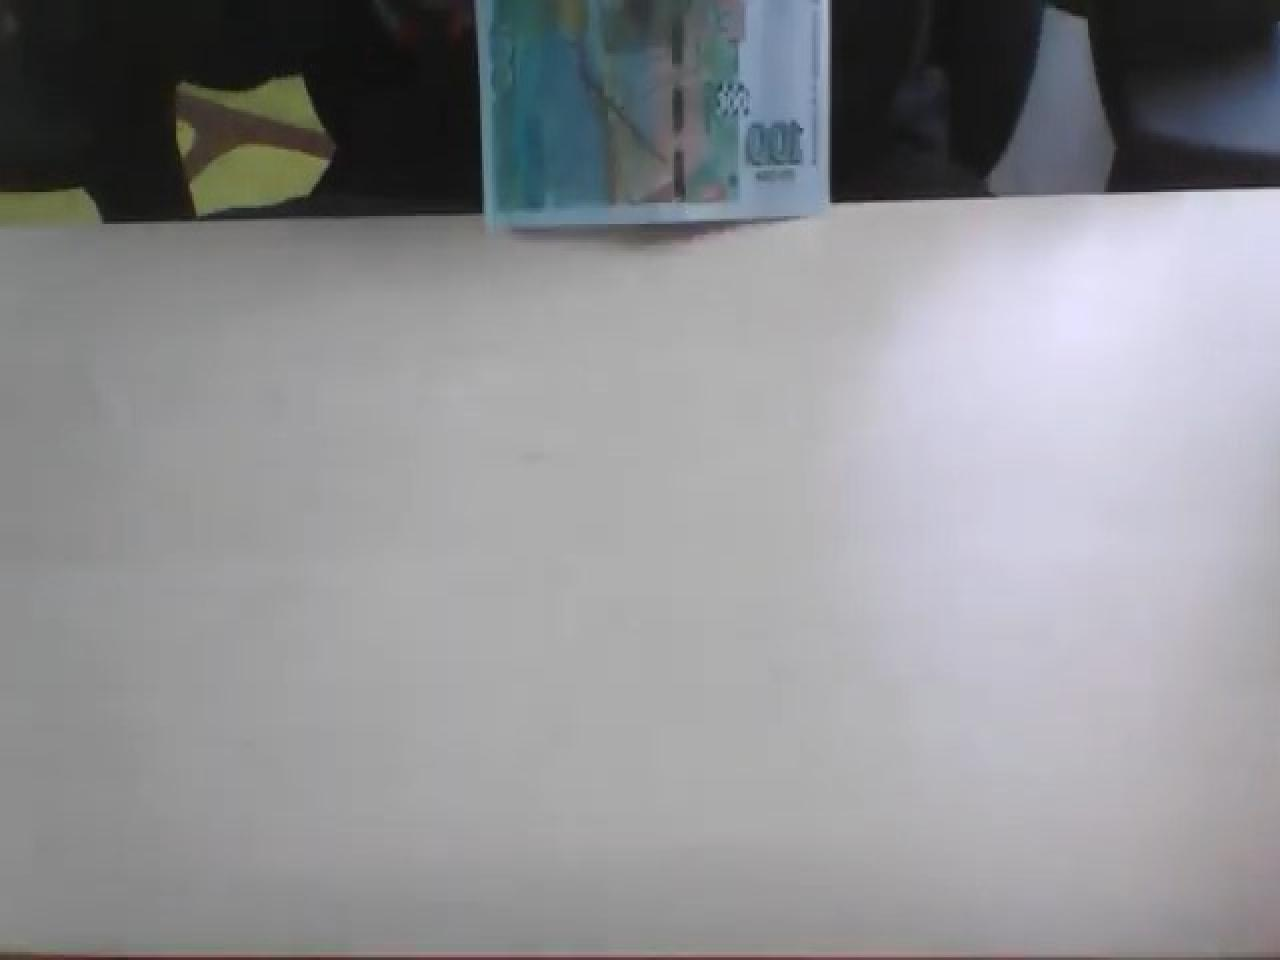100leva: (476, 0, 834, 232), (744, 115, 808, 168)
